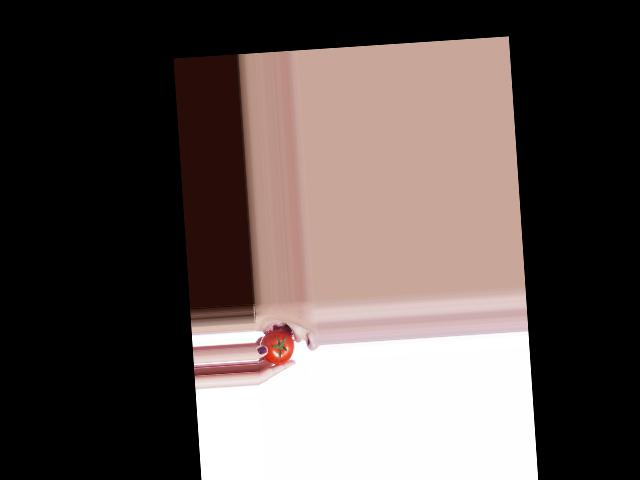tomato: (258, 329, 295, 366)
